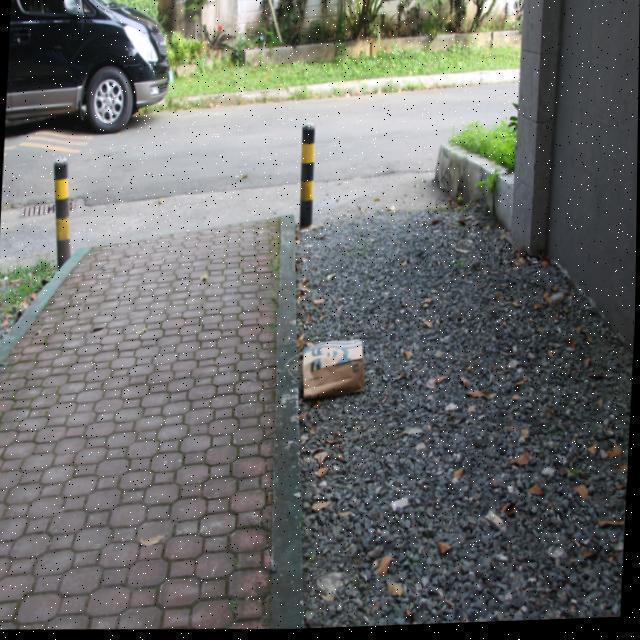Paper_Bag: (284, 339, 368, 404)
